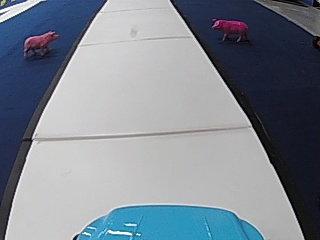pig: (209, 15, 249, 43), (21, 28, 57, 59)
